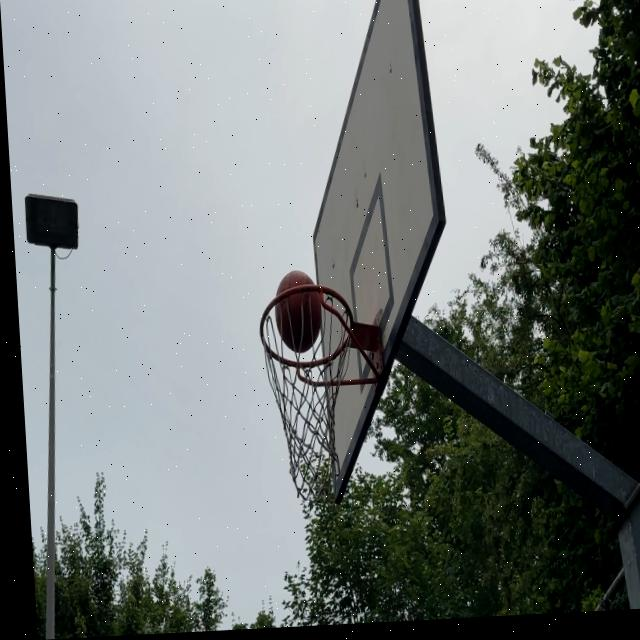Basketball: (268, 271, 326, 354)
